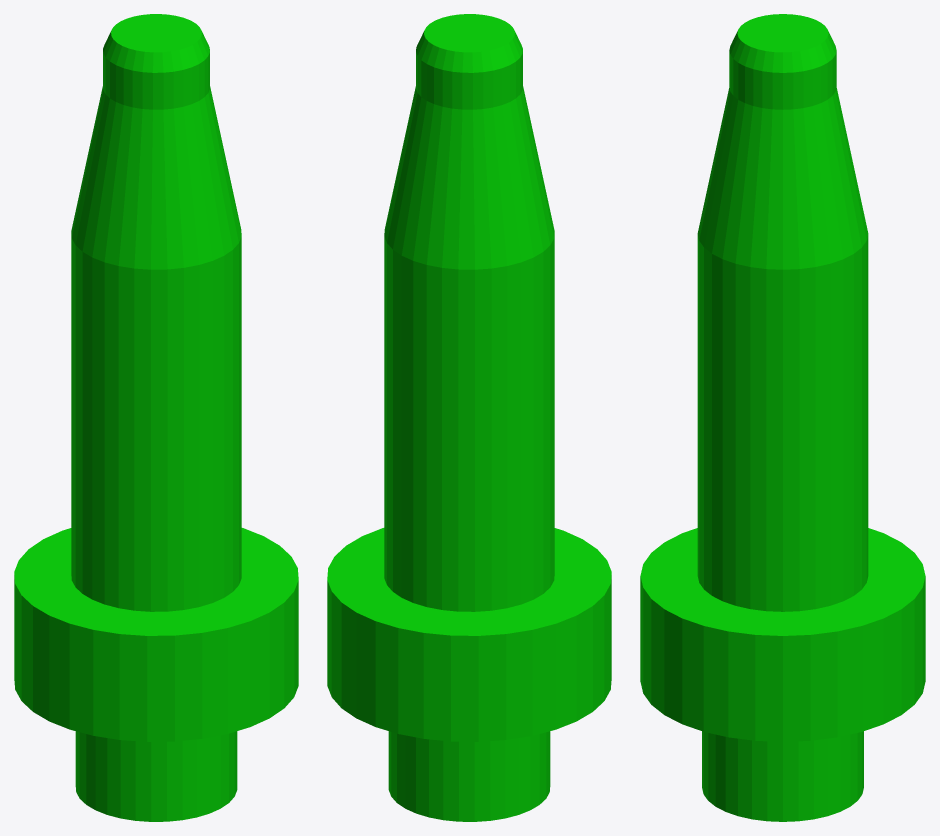
Rendered from green_buoy.obj.
The picture shows the model from 3 angles, left to right: view 1: azimuth 30°, elevation 25°; view 2: azimuth 150°, elevation 25°; view 3: azimuth 270°, elevation 25°; orthographic projection.
Parts seen in each view (by area): view 1: Cylinder; view 2: Cylinder; view 3: Cylinder.
Part boxes in pixels (bbox=[...]): Cylinder: bbox=[14, 14, 298, 821]; Cylinder: bbox=[327, 14, 611, 821]; Cylinder: bbox=[640, 14, 925, 821].
Bounding box in the file's own units: 1.15 × 3.36 × 1.15.
